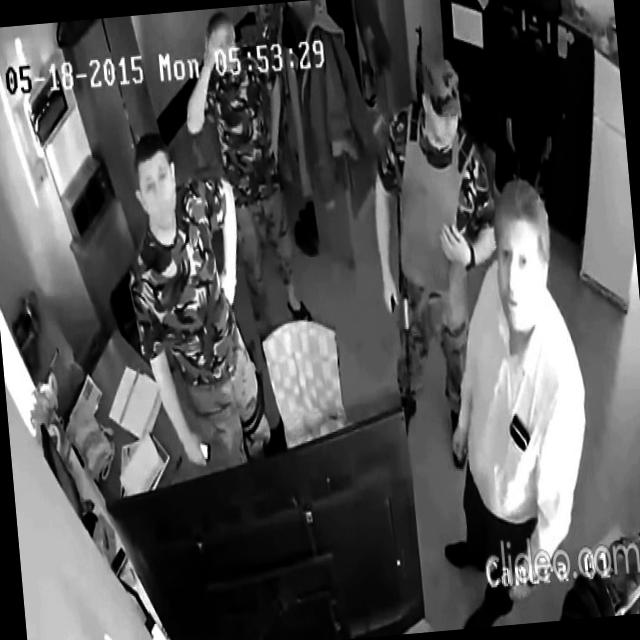gun: (388, 187, 421, 379), (408, 24, 430, 106)
person: (412, 172, 605, 630), (115, 122, 274, 476), (176, 4, 314, 335)
person with a gun: (362, 50, 519, 472)
